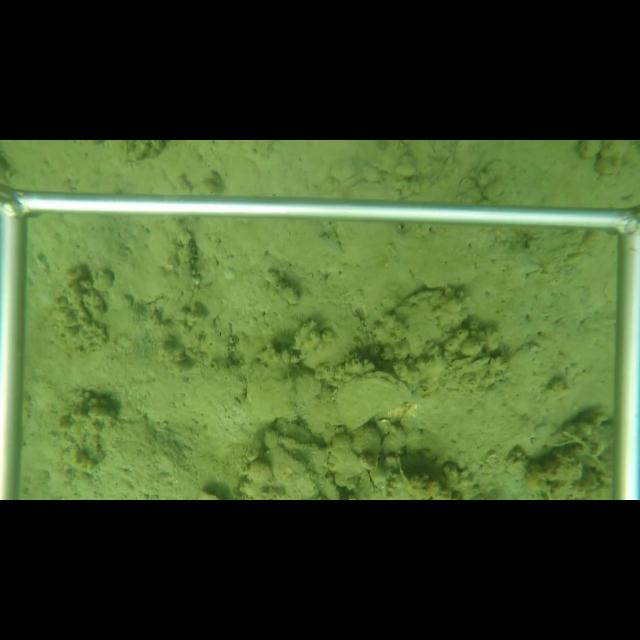Oyster-Closed: (367, 283, 468, 356), (335, 368, 416, 430), (265, 444, 308, 484)
